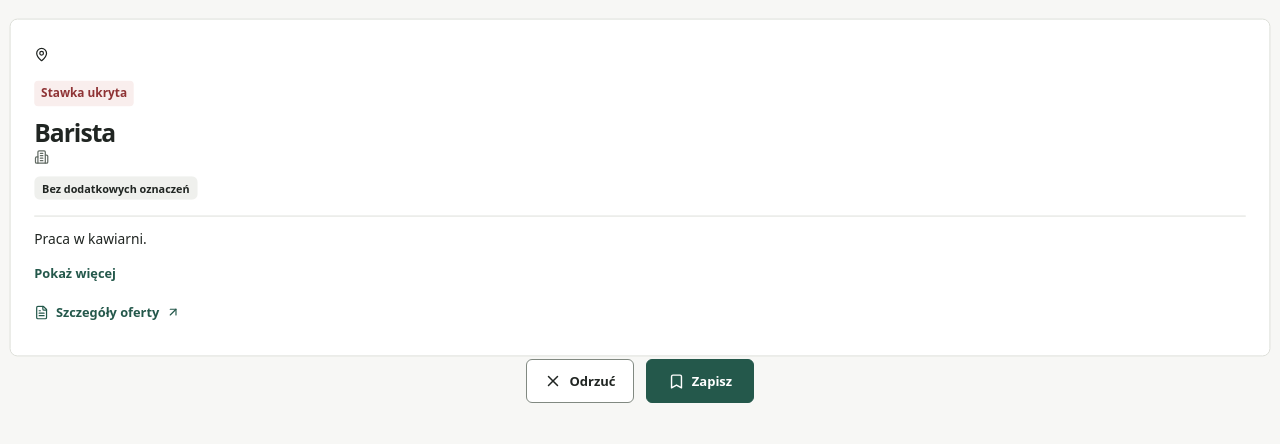
swipe card transitions › labels a source excerpt ending with ... and only links to HTTPS
Click the button with class "job-description-toggle": (75, 273) left=34, top=253, right=116, bottom=293
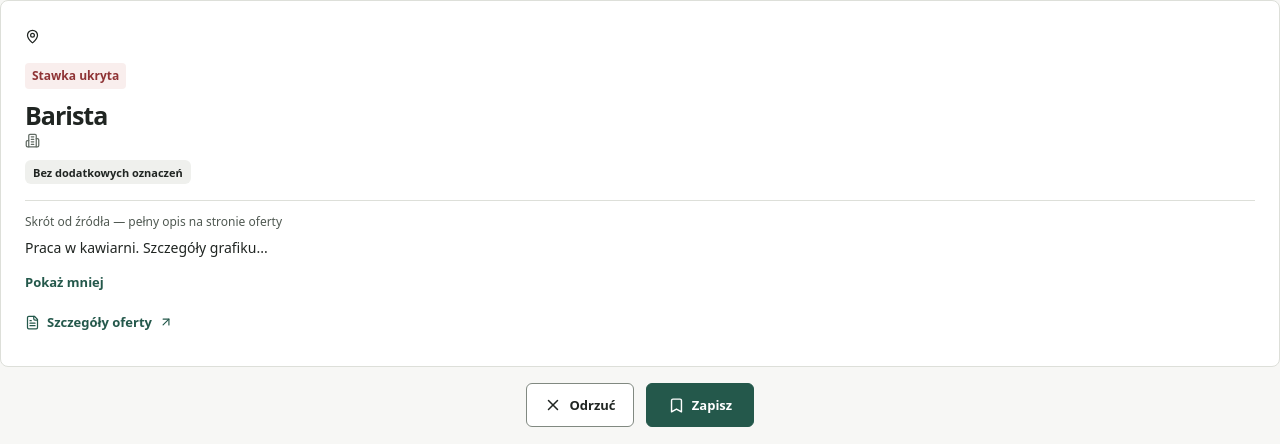
Expected: the button with class "job-details-button" is shown, left=25, top=302, right=173, bottom=342
Expected: the text with class "job-description-source-note" reads "Skrót od źródła — pełny opis na stronie oferty", left=25, top=213, right=282, bottom=230
